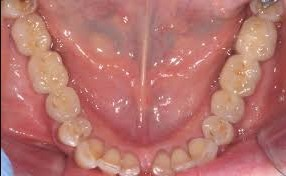LL1BC_healthy: (205, 117, 235, 148)
LL1M_healthy: (219, 56, 262, 95)
LL2BC_healthy: (212, 90, 244, 121)
LL2M_healthy: (237, 20, 277, 59)
LL3M_decay: (251, 1, 283, 21)
LLCI_healthy: (152, 150, 173, 176)
LLC_healthy: (189, 138, 219, 167)
LLLI_healthy: (171, 148, 194, 173)
LR1BC_healthy: (61, 119, 91, 144)
LR1M_healthy: (29, 53, 70, 90)
LR2BC_healthy: (48, 89, 81, 120)
LR2M_healthy: (12, 21, 50, 53)
LR3M_decay: (2, 1, 38, 19)
LRCI_healthy: (120, 152, 142, 176)
LRC_healthy: (79, 138, 101, 171)
LRLI_healthy: (101, 148, 120, 176)
